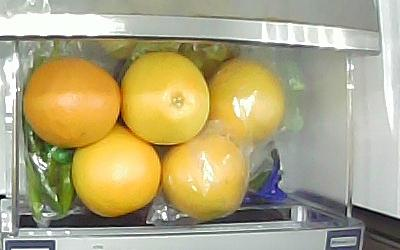grapefruit: (22, 57, 121, 148), (72, 122, 161, 216), (122, 51, 210, 145)
grapefruit_vinyl: (162, 134, 246, 219), (210, 59, 284, 144)
